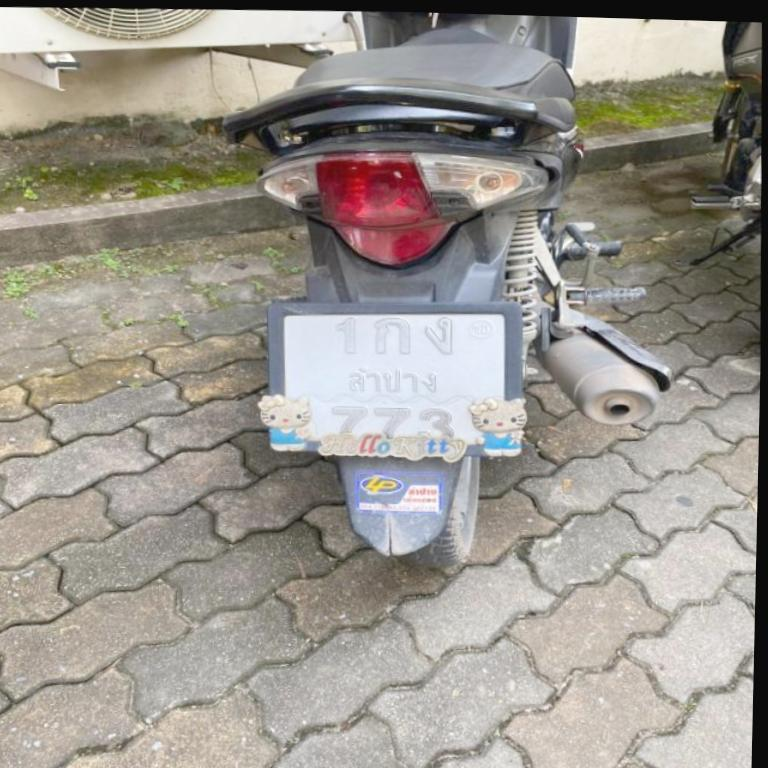license plate: (257, 287, 532, 468)
